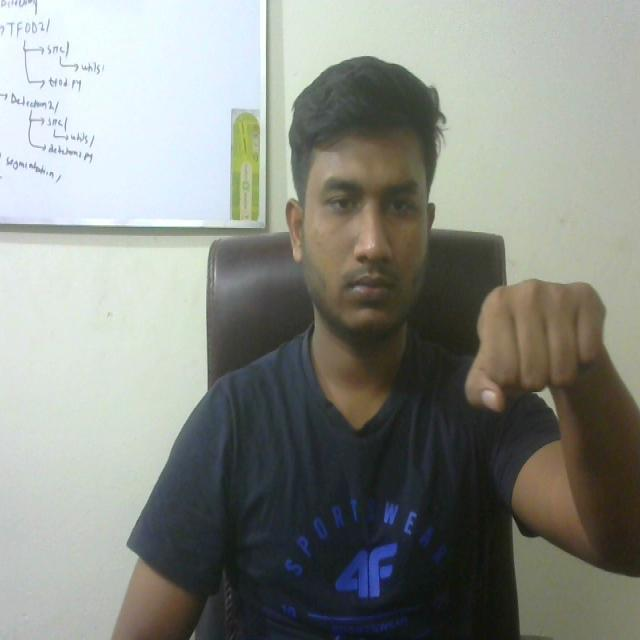Yes: (454, 267, 620, 424)
